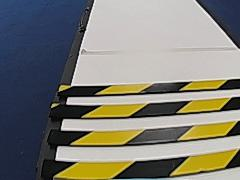bump: (49, 72, 237, 160)
